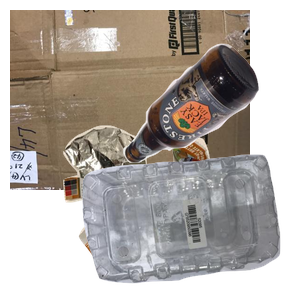cardboard: (10, 10, 250, 190)
glass: (120, 41, 300, 196)
plastic: (80, 152, 300, 300)
trash: (61, 123, 273, 300)
